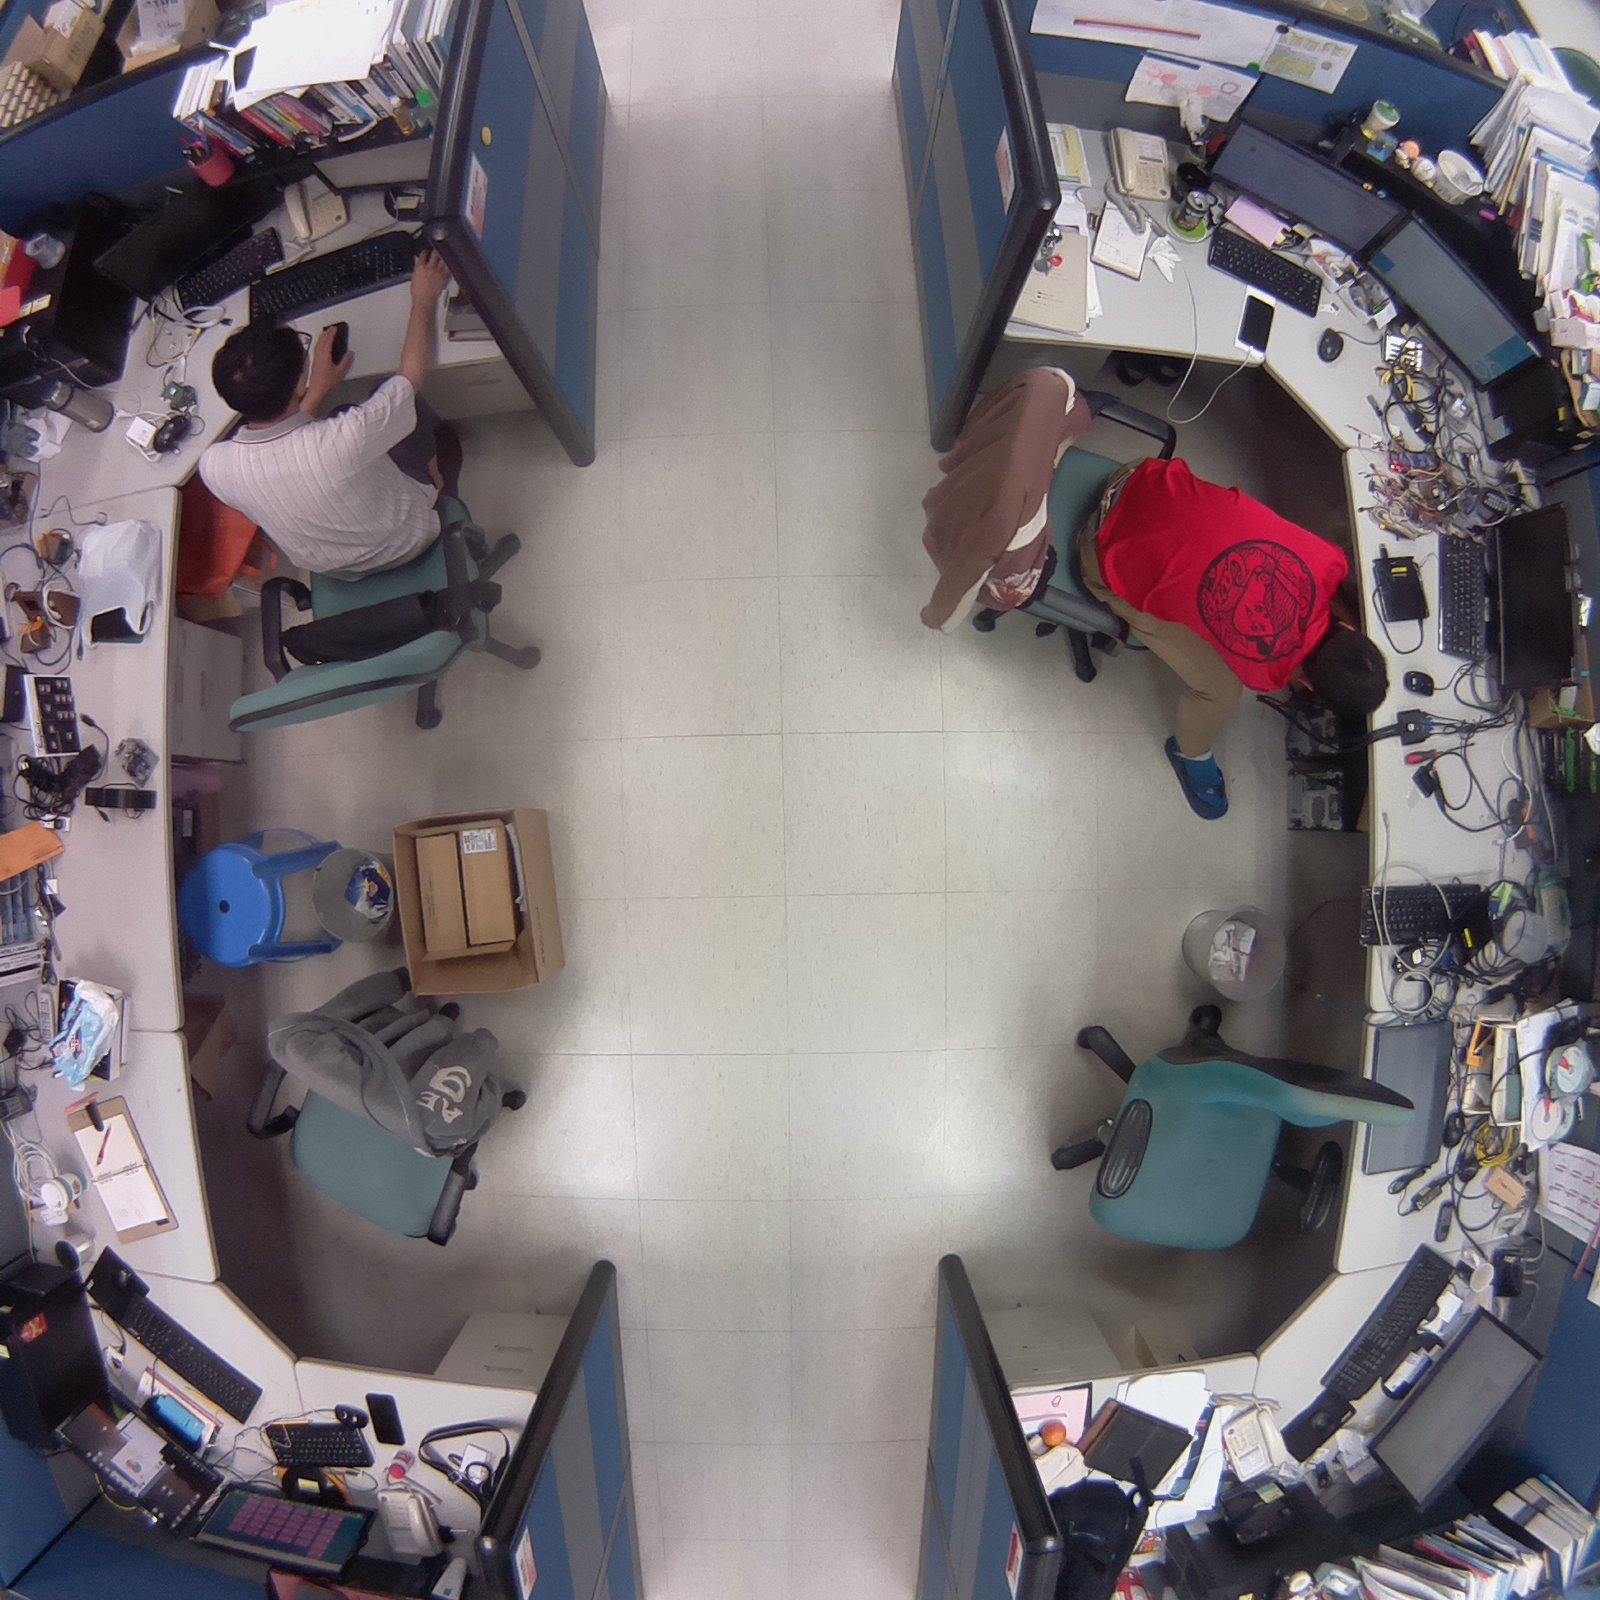chair: (1035, 950, 1419, 1275), (229, 958, 545, 1270)
head: (203, 320, 321, 418), (1301, 610, 1399, 722)
sitting: (904, 337, 1394, 837), (179, 307, 565, 752)
